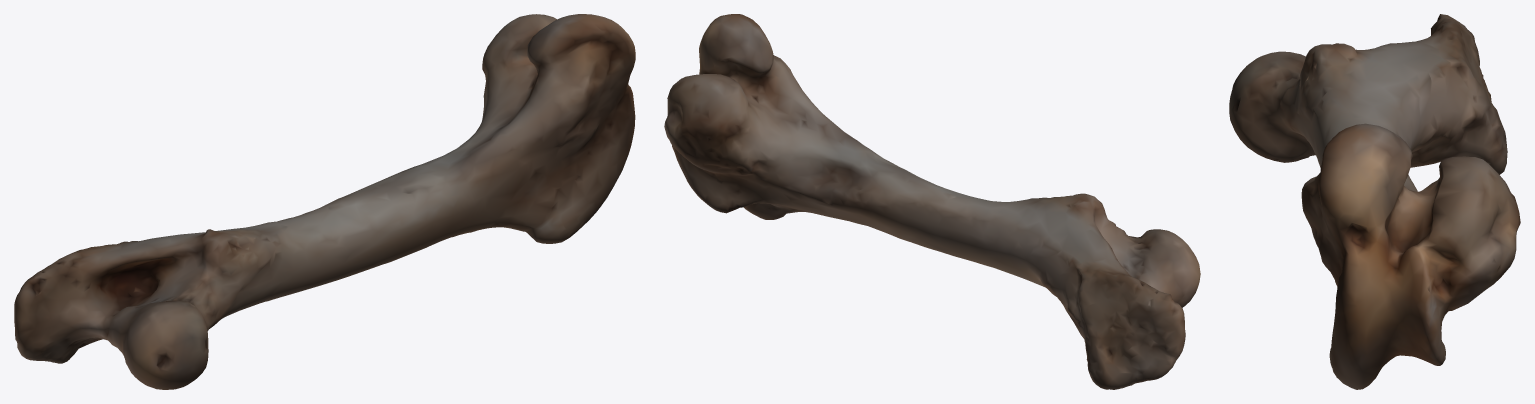
File: CowFemur.fbx
3 renders of one model, left to right at view 1: azimuth 30°, elevation 25°; view 2: azimuth 150°, elevation 25°; view 3: azimuth 270°, elevation 25°, orthographic. The views are drawn at different scales.
Parts seen in each view (by area): view 1: CowFemur; view 2: CowFemur; view 3: CowFemur.
Part boxes in pixels (x1,y1,x2,y2): CowFemur: [14, 14, 635, 389]; CowFemur: [664, 14, 1200, 389]; CowFemur: [1229, 14, 1520, 389].
Size of the model in its own units: 415 by 181 by 143.
